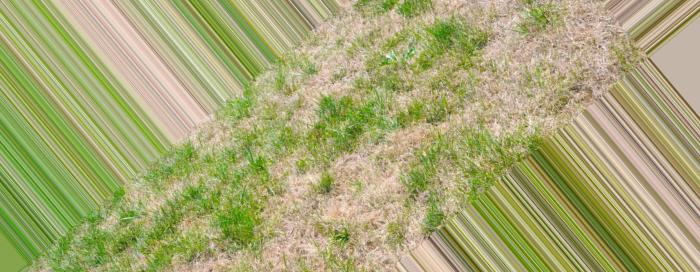patch: (452, 44, 528, 118), (377, 117, 422, 183), (541, 17, 593, 73), (301, 184, 367, 221), (243, 225, 297, 265), (310, 150, 374, 180), (176, 158, 220, 191), (302, 50, 337, 88), (272, 93, 309, 126), (470, 2, 505, 34), (358, 23, 399, 45), (263, 176, 288, 209), (340, 52, 358, 79)
